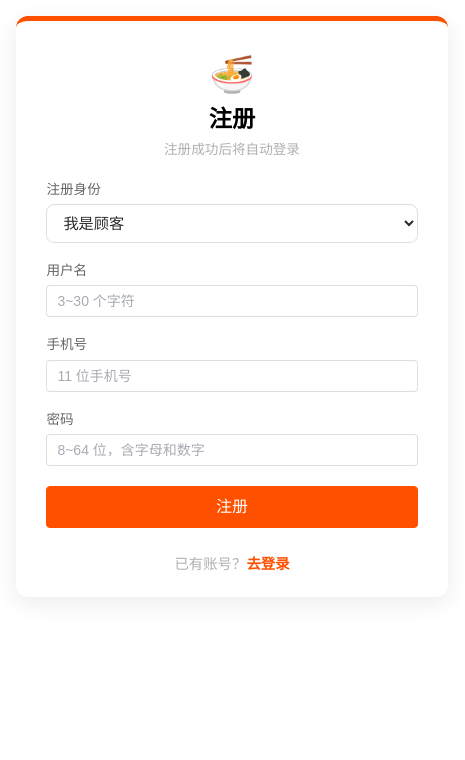
Test: 注册页（角色化） › 切换商家角色后展示商家专属字段
Select "我是商家" in the dropdown with test id "register-role" at {"x": 232, "y": 224}, box [46,204,418,243]
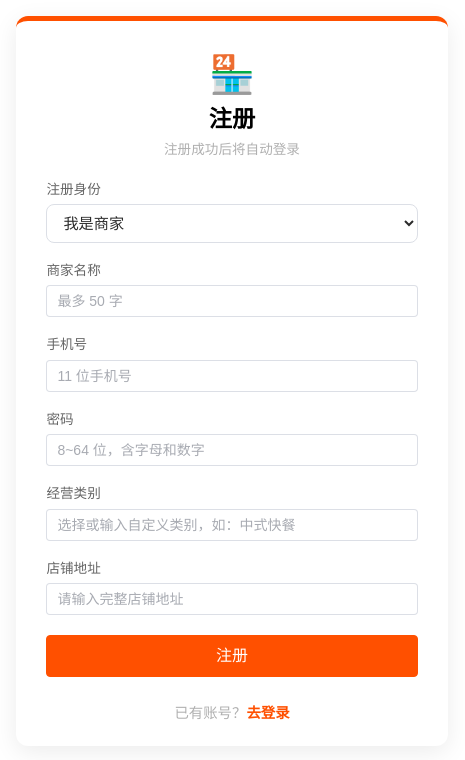
Check: the field with test id "register-merchant-name" is shown, box [57,286,407,316]
Check: the field with test id "register-scope" is shown, box [57,510,407,540]
